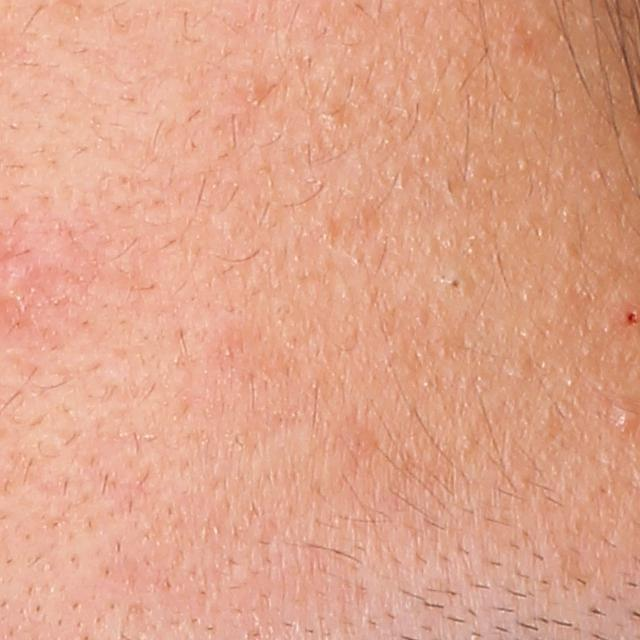comedo: (443, 259, 469, 296)
